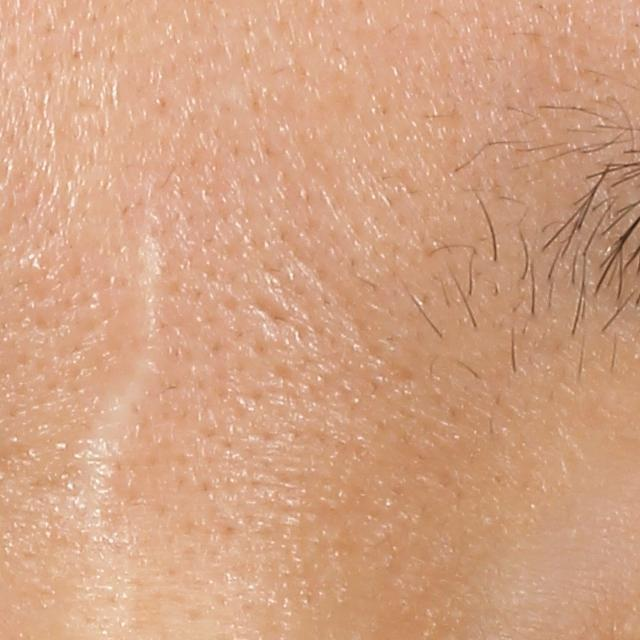other: (64, 199, 184, 557)
